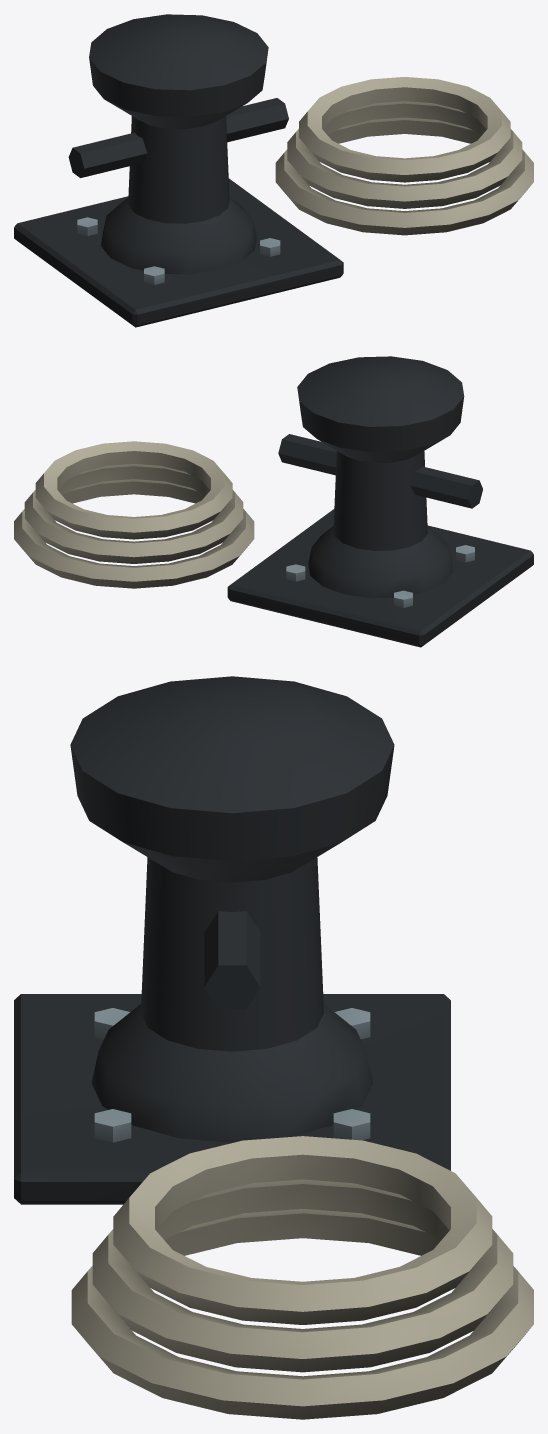
File: mooring-post.lod0.glb
3 renders of one model, top to bottom at view 1: azimuth 30°, elevation 25°; view 2: azimuth 150°, elevation 25°; view 3: azimuth 270°, elevation 25°, orthographic. The views are drawn at different scales.
Visible parts, largest first — view 1: structure; view 2: structure; view 3: structure.
Boxes of the visible parts, x1,y1,x2,y2 form: structure: (14, 14, 533, 327); structure: (14, 356, 533, 647); structure: (14, 676, 533, 1419).
Bounding box in the file's own units: 1.36 × 0.64 × 0.7379.
